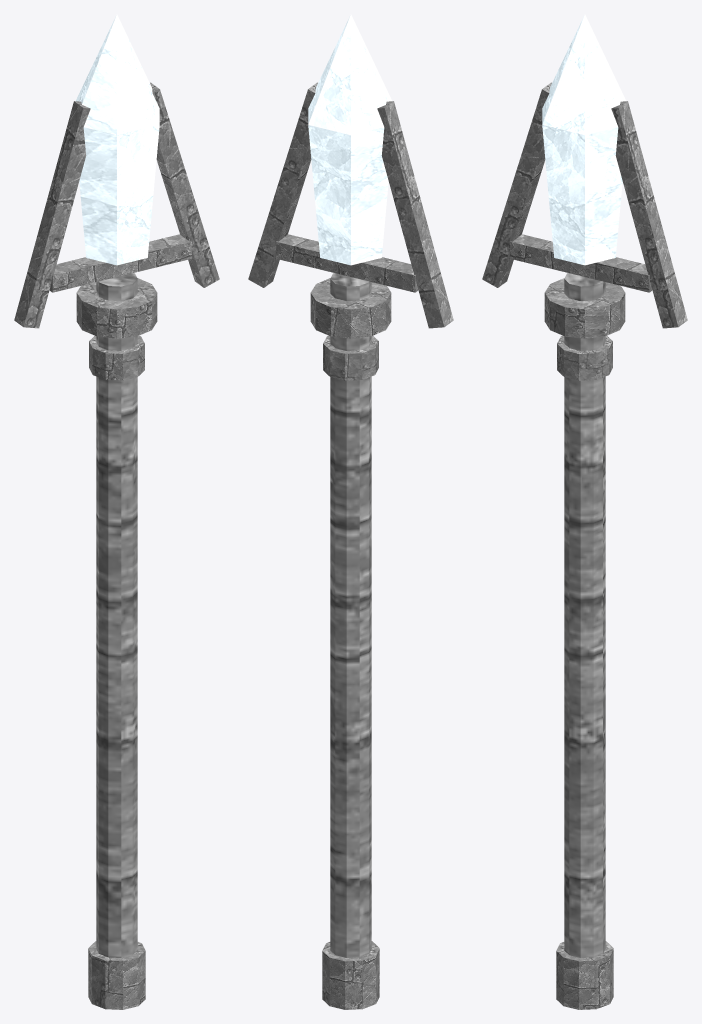
Rendered from Magenheim_Staff_Storm_Crystal.glb.
The picture shows the model from 3 angles, left to right: view 1: azimuth 30°, elevation 25°; view 2: azimuth 150°, elevation 25°; view 3: azimuth 330°, elevation 25°; orthographic projection.
Parts seen in each view (by area): view 1: shaft, bolt-focus, left-fork, right-fork, neck-ring, pommel, bridge, neck; view 2: shaft, bolt-focus, left-fork, right-fork, neck-ring, pommel, bridge, neck; view 3: shaft, bolt-focus, right-fork, left-fork, neck-ring, pommel, bridge, neck.
Boxes of the visible parts, x1=… form: shaft: x1=96, y1=273, x2=137, y2=957; bolt-focus: x1=76, y1=14, x2=159, y2=265; left-fork: x1=14, y1=101, x2=90, y2=328; right-fork: x1=150, y1=82, x2=219, y2=287; neck-ring: x1=76, y1=278, x2=157, y2=338; pommel: x1=88, y1=941, x2=145, y2=1009; bridge: x1=49, y1=234, x2=191, y2=292; neck: x1=89, y1=335, x2=144, y2=380; shaft: x1=330, y1=273, x2=371, y2=957; bolt-focus: x1=308, y1=14, x2=391, y2=265; left-fork: x1=377, y1=101, x2=453, y2=328; right-fork: x1=248, y1=82, x2=317, y2=287; neck-ring: x1=310, y1=278, x2=391, y2=338; pommel: x1=322, y1=941, x2=379, y2=1009; bridge: x1=276, y1=234, x2=418, y2=292; neck: x1=323, y1=335, x2=378, y2=380; shaft: x1=564, y1=273, x2=605, y2=957; bolt-focus: x1=542, y1=14, x2=625, y2=265; right-fork: x1=611, y1=101, x2=687, y2=328; left-fork: x1=482, y1=82, x2=551, y2=287; neck-ring: x1=544, y1=278, x2=625, y2=338; pommel: x1=556, y1=941, x2=613, y2=1009; bridge: x1=510, y1=234, x2=652, y2=292; neck: x1=557, y1=335, x2=612, y2=380.
Bounding box in the file's own units: 0.4221 × 2.02 × 0.1593.
Materials: 3 (3 with a texture image).
